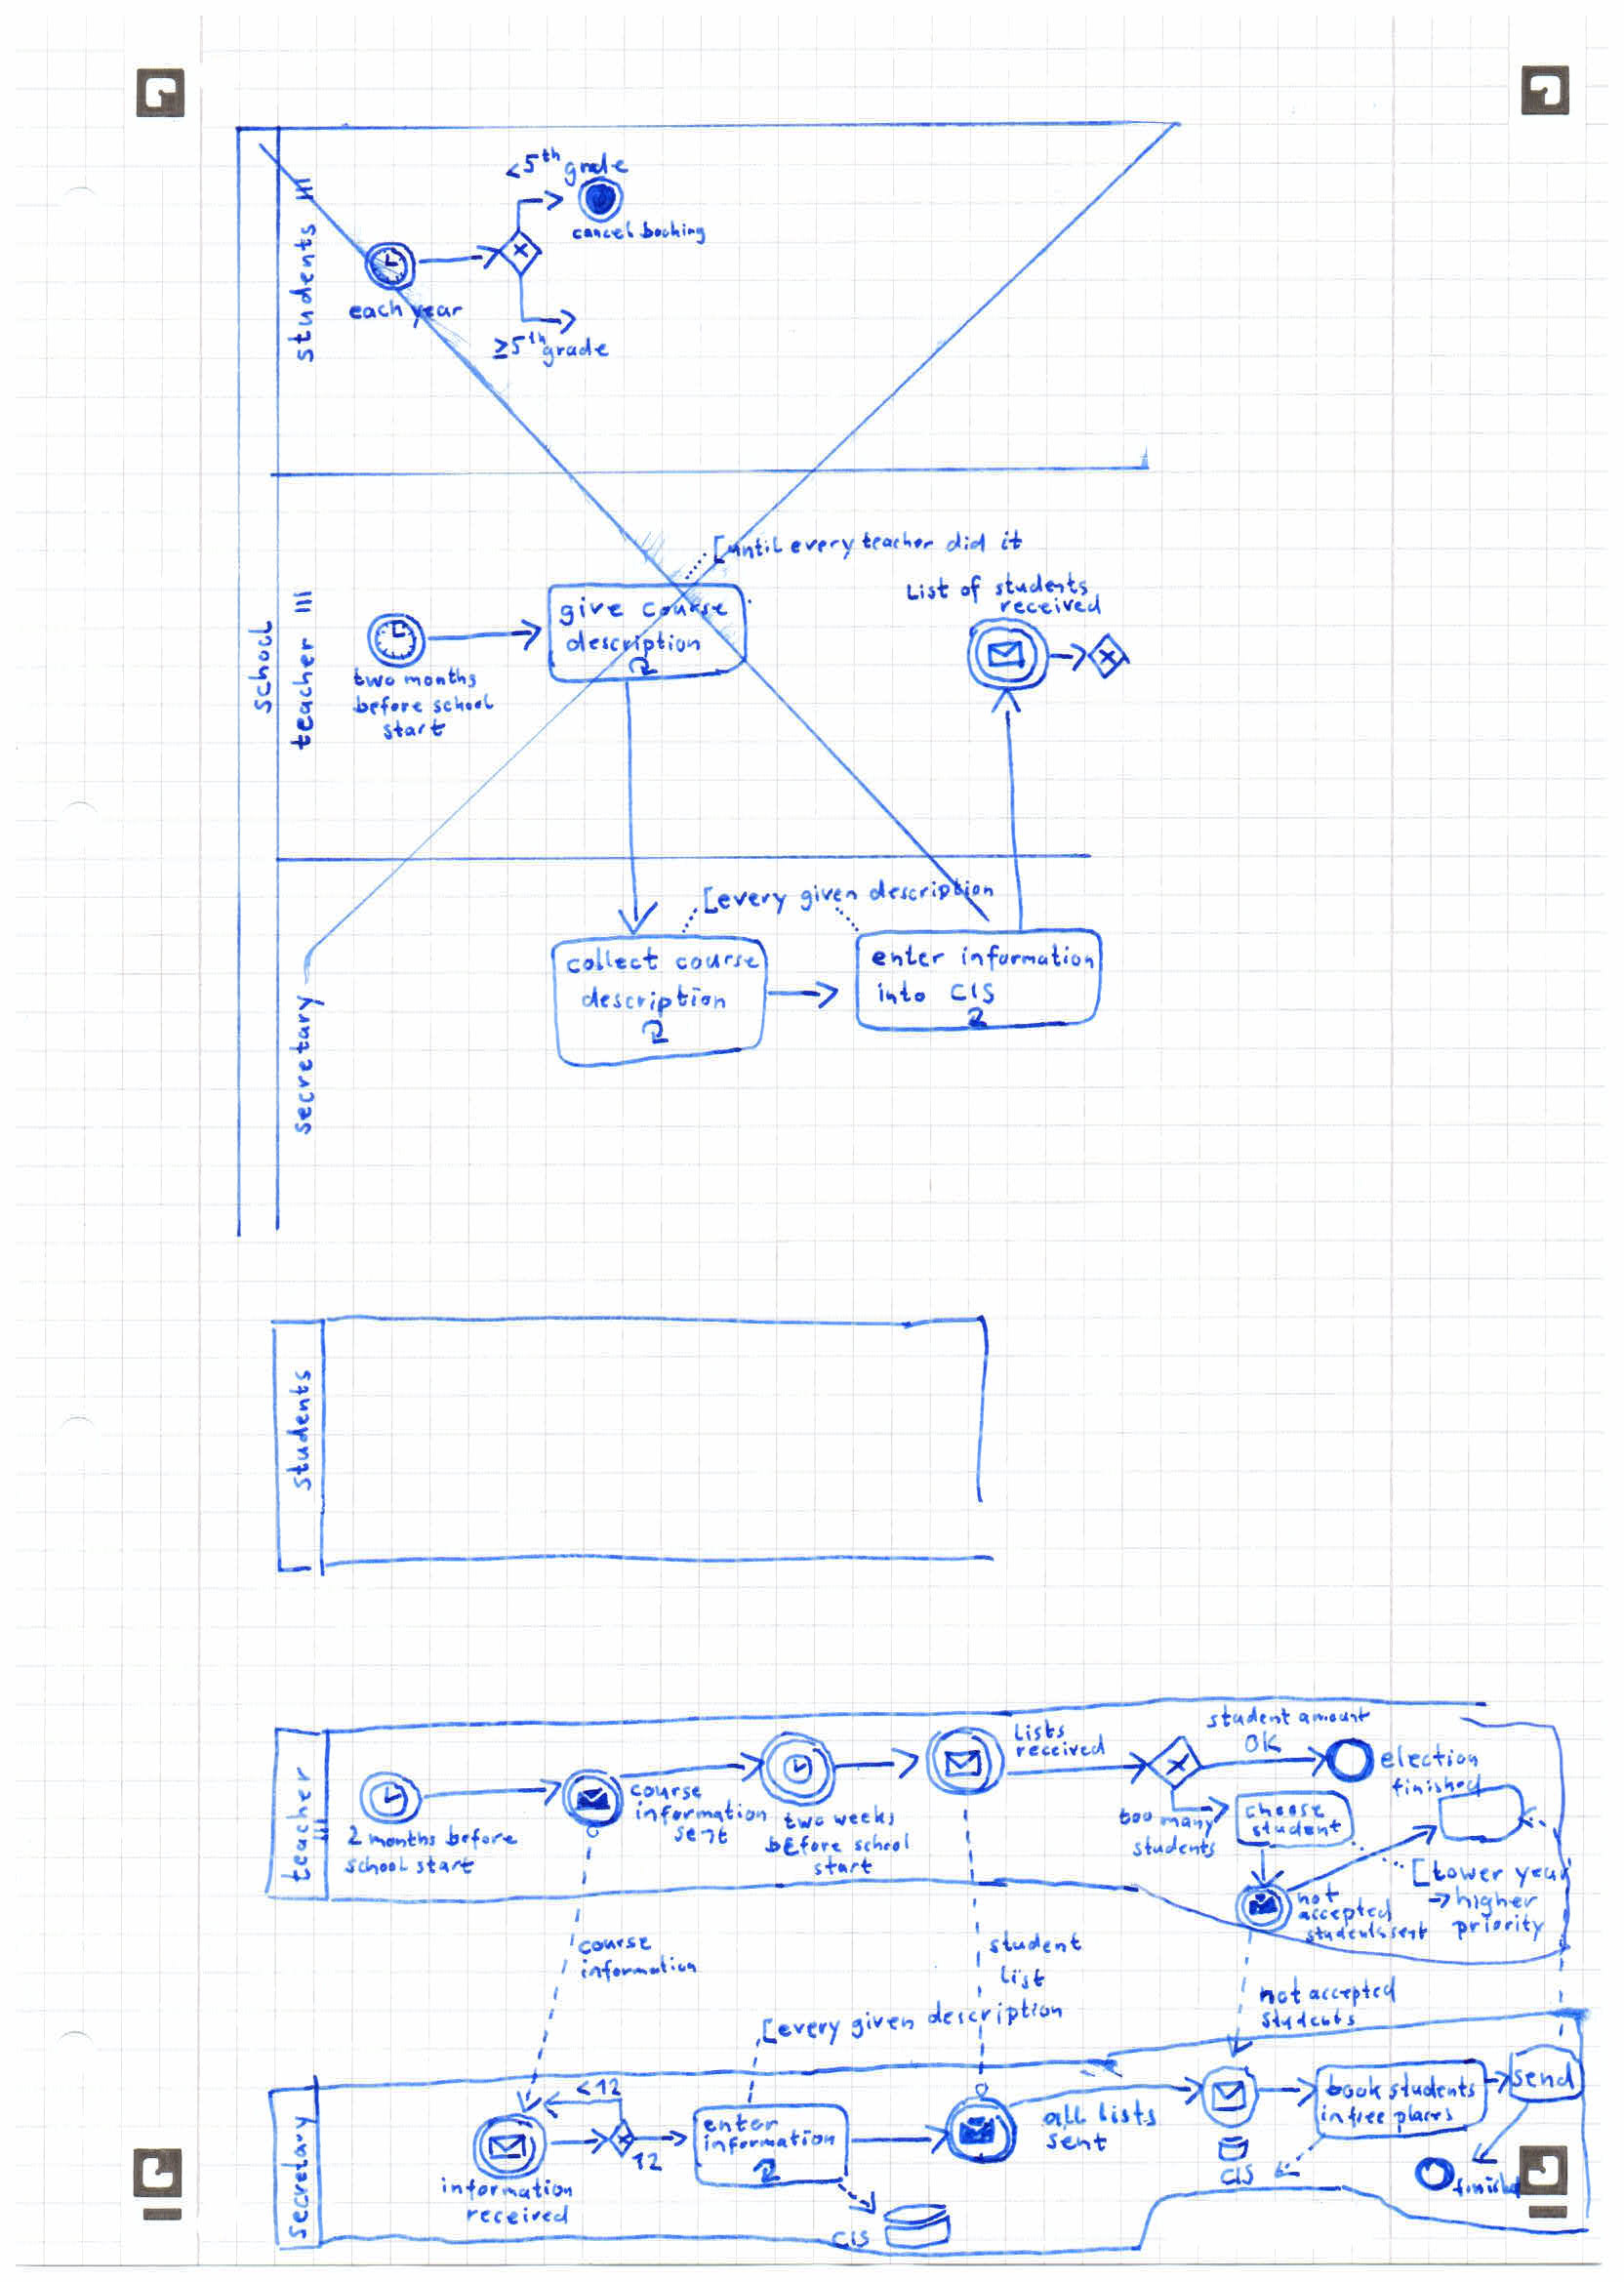->: (1429, 1889, 1456, 1908)
12: (628, 2147, 663, 2176)
2: (341, 1824, 366, 1848)
<12: (574, 2073, 627, 2103)
CIS: (1216, 2162, 1253, 2190), (826, 2229, 874, 2250)
III: (309, 1814, 330, 1844)
OK: (1238, 1732, 1284, 1755)
[every: (757, 2012, 840, 2046)
[lower: (1404, 1857, 1509, 1888)
accepted: (1304, 1975, 1398, 2005), (1294, 1900, 1394, 1927)
all: (1039, 2101, 1086, 2129)
amount: (1295, 1706, 1371, 1729)
before: (441, 1825, 518, 1853), (762, 1833, 846, 1858)
book: (1323, 2072, 1383, 2103)
choose: (1241, 1803, 1327, 1822)
course: (576, 1932, 651, 1956), (627, 1779, 704, 1801)
description: (921, 2001, 1067, 2028)
election: (1376, 1742, 1480, 1772)
enter: (698, 2115, 782, 2134)
finished: (1389, 1773, 1484, 1799), (1451, 2172, 1522, 2200)
free: (1343, 2105, 1388, 2132)
given: (843, 2009, 918, 2038)
higher: (1454, 1886, 1542, 1911)
in: (1316, 2103, 1347, 2126)
information: (629, 1800, 771, 1828), (434, 2177, 575, 2204), (702, 2130, 837, 2156), (575, 1955, 700, 1981)
list: (992, 1963, 1047, 1991)
lists: (1095, 2099, 1160, 2126), (1012, 1721, 1066, 1742)
many: (1157, 1810, 1215, 1835)
months: (365, 1828, 436, 1853)
not: (1258, 1975, 1301, 2011), (1293, 1882, 1343, 1910)
places: (1390, 2104, 1454, 2132)
priority: (1448, 1915, 1543, 1942)
received: (462, 2204, 572, 2228), (1009, 1742, 1109, 1765)
school: (342, 1855, 408, 1878), (848, 1833, 910, 1855)
secretary: (280, 2112, 318, 2242)
send: (1507, 2064, 1573, 2091)
sent: (1043, 2131, 1112, 2156), (670, 1826, 735, 1848), (1387, 1923, 1426, 1941)
start: (411, 1855, 478, 1878), (809, 1856, 874, 1878)
student: (983, 1930, 1084, 1960), (1203, 1704, 1294, 1731), (1246, 1818, 1343, 1841)
students: (282, 1369, 316, 1493), (1383, 2072, 1478, 2101), (1256, 2007, 1358, 2032), (1127, 1837, 1218, 1862), (1298, 1923, 1386, 1947)
teacher: (280, 1762, 312, 1885)
too: (1114, 1808, 1155, 1829)
two: (777, 1813, 831, 1831)
weeks: (830, 1806, 897, 1830)
year: (1513, 1860, 1570, 1891)
